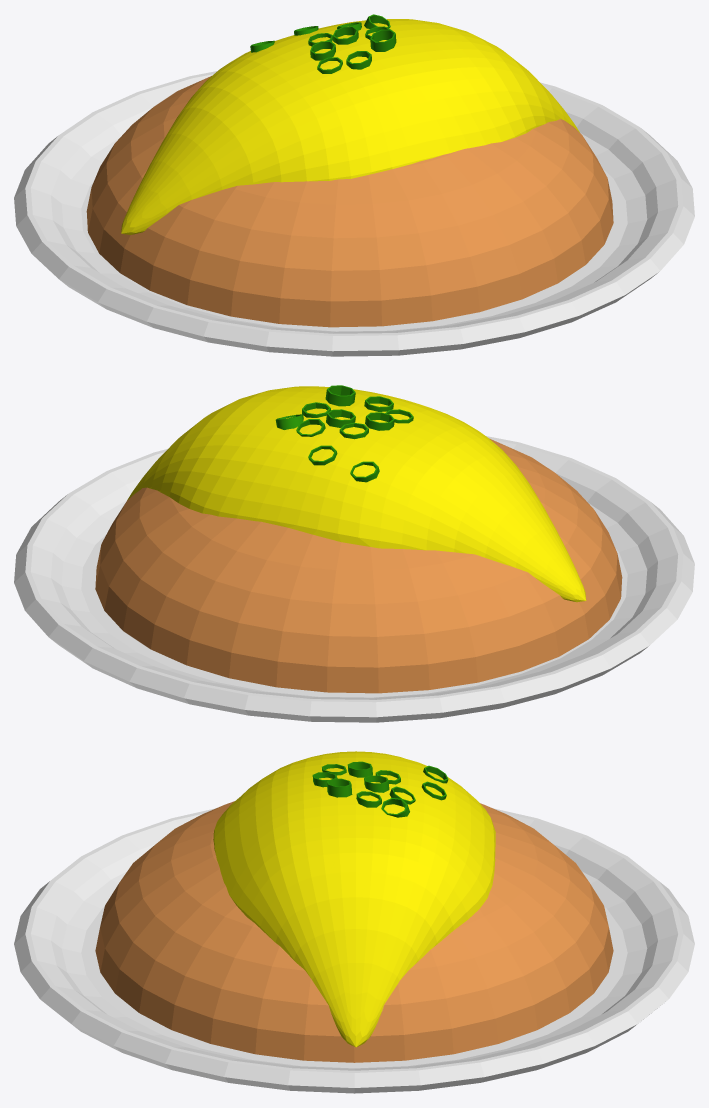
File: PlaneWithEgg.fbx
3 renders of one model, top to bottom at view 1: azimuth 30°, elevation 25°; view 2: azimuth 150°, elevation 25°; view 3: azimuth 270°, elevation 25°, orthographic.
Parts seen in each view (by area): view 1: wwood.059; view 2: wwood.059; view 3: wwood.059.
Part boxes in pixels (bbox=[...]): wwood.059: bbox=[14, 14, 694, 356]; wwood.059: bbox=[14, 385, 694, 722]; wwood.059: bbox=[14, 751, 694, 1093].
Size of the model in its own units: 2.91 by 2.91 by 0.8899.
3 materials, 3 textured.
